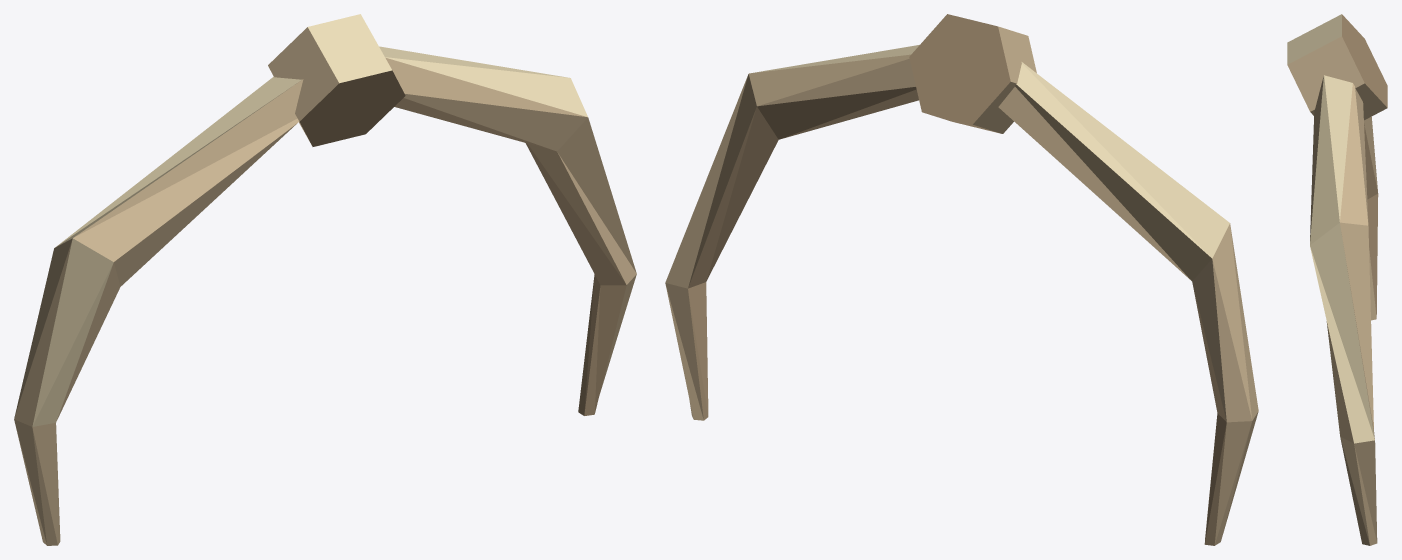
Rendered from TB_D_Env_BoneE_A.FBX.
3 renders of one model, left to right at view 1: azimuth 30°, elevation 25°; view 2: azimuth 150°, elevation 25°; view 3: azimuth 270°, elevation 25°, orthographic. The views are drawn at different scales.
Visible parts, largest first — view 1: TB_D_Env_BoneE_A; view 2: TB_D_Env_BoneE_A; view 3: TB_D_Env_BoneE_A.
Part boxes in pixels (left/top/right/bottom): TB_D_Env_BoneE_A: left=14, top=14, right=636, bottom=545; TB_D_Env_BoneE_A: left=665, top=14, right=1258, bottom=545; TB_D_Env_BoneE_A: left=1287, top=14, right=1387, bottom=545.
Bounding box in the file's own units: 3.63 × 2.65 × 0.5951.
